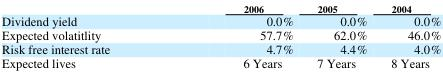table: (1, 1, 440, 70)
table column: (1, 1, 175, 70), (175, 1, 304, 70), (304, 1, 378, 70), (378, 1, 440, 70)
table column header: (1, 1, 440, 13)
table row: (1, 55, 440, 70), (1, 13, 440, 27), (1, 27, 440, 41), (1, 41, 440, 55), (1, 1, 440, 13)
